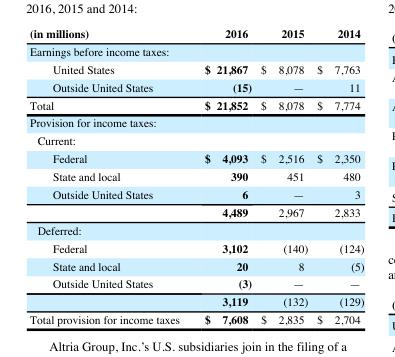table: (29, 28, 363, 326)
table column: (29, 28, 191, 326), (191, 28, 255, 326), (255, 28, 311, 326), (311, 28, 363, 326)
table column header: (29, 28, 363, 43)
table projected row header: (29, 43, 363, 61), (29, 114, 363, 132), (29, 132, 363, 150), (29, 221, 363, 239)
table row: (29, 43, 363, 61), (29, 78, 363, 96), (29, 96, 363, 114), (29, 114, 363, 132), (29, 132, 363, 150), (29, 150, 363, 168), (29, 168, 363, 186), (29, 186, 363, 204), (29, 221, 363, 239), (29, 239, 363, 257), (29, 257, 363, 275), (29, 275, 363, 293), (29, 293, 363, 311), (29, 61, 363, 78), (29, 204, 363, 221), (29, 28, 363, 43), (29, 311, 363, 326)
